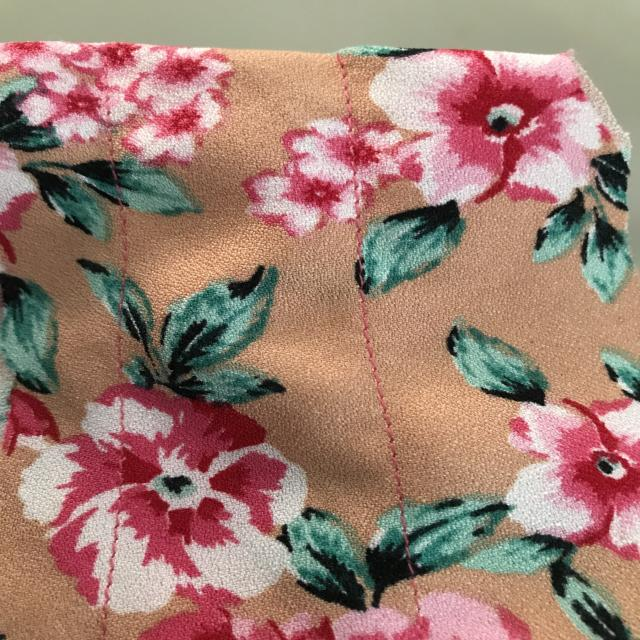good: (356, 340, 412, 462)
